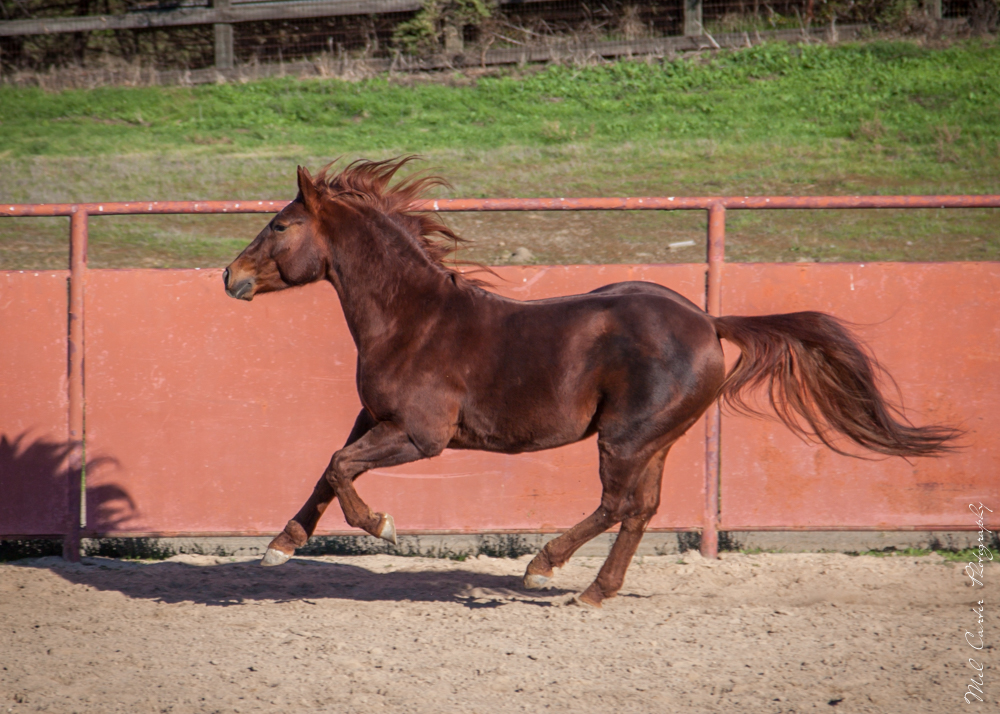Horse: (202, 149, 964, 645)
